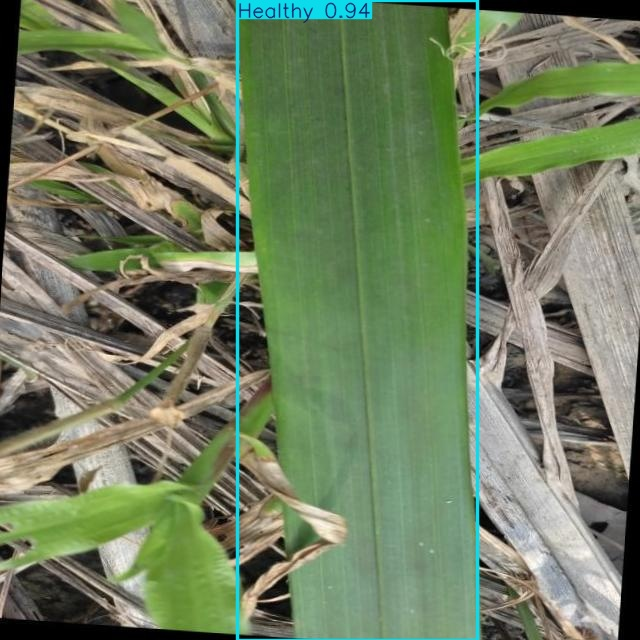Healthy: (237, 0, 478, 640)
